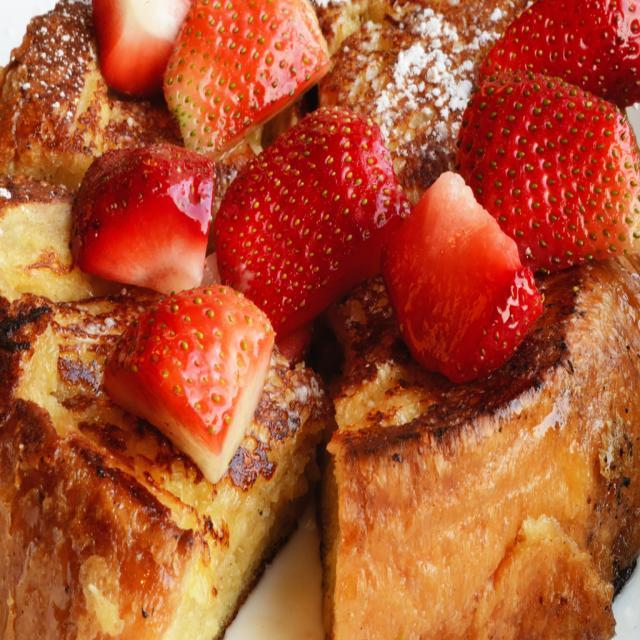Strawberry: (216, 104, 414, 338), (100, 281, 276, 487), (380, 170, 540, 392), (454, 86, 622, 284), (161, 0, 335, 170), (67, 143, 215, 293), (478, 0, 640, 108), (87, 0, 195, 103)
